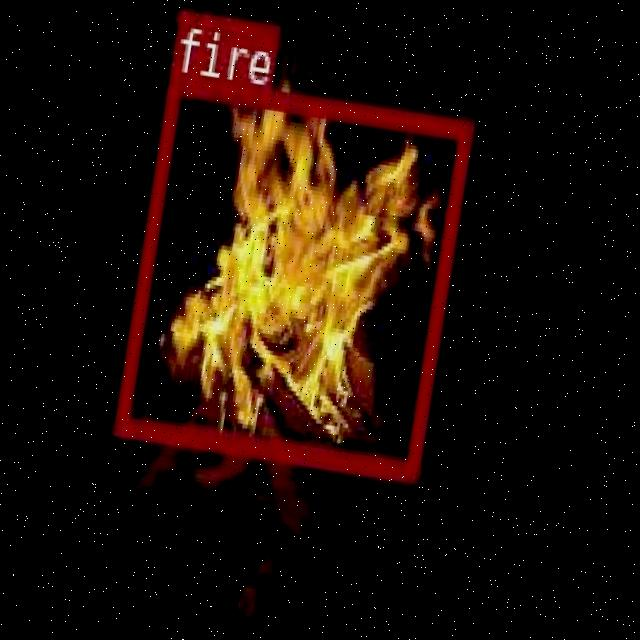fire: (112, 70, 471, 477)
